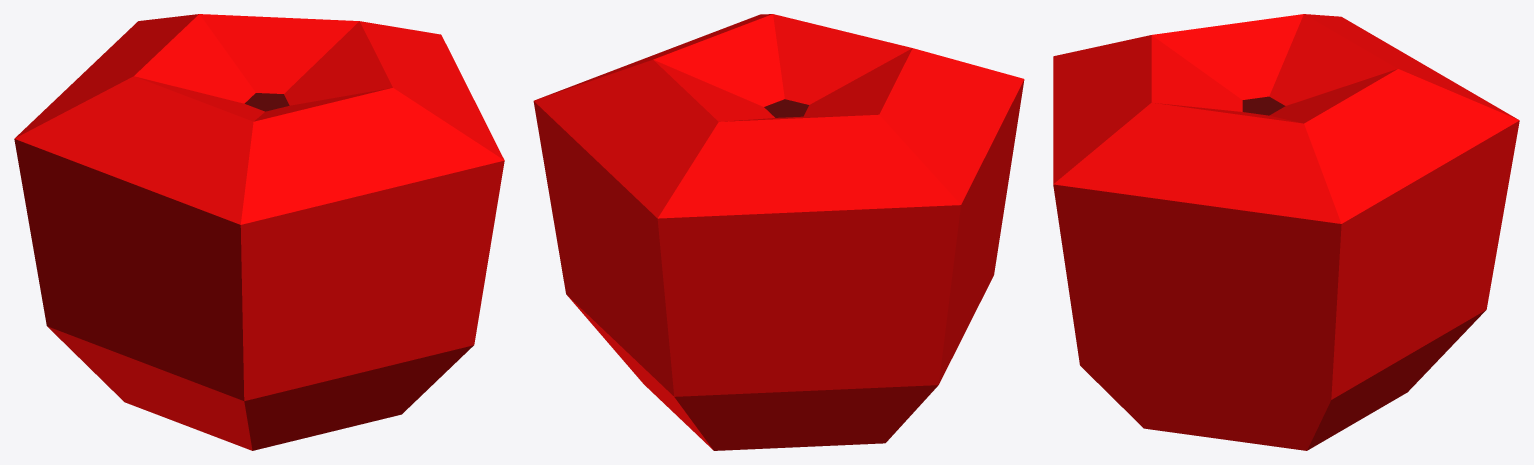
The model's file is cherry02.gltf.
3 views of the same model, side by side, from view 1: azimuth 30°, elevation 25°; view 2: azimuth 150°, elevation 25°; view 3: azimuth 270°, elevation 25° (orthographic).
Visible parts, largest first — view 1: Cylinder; view 2: Cylinder; view 3: Cylinder.
Part boxes in pixels (left/top/right/bottom): Cylinder: left=14, top=14, right=504, bottom=450; Cylinder: left=533, top=14, right=1024, bottom=450; Cylinder: left=1053, top=14, right=1519, bottom=450.
Bounding box in the file's own units: 0.0298 × 0.0217 × 0.0283.
1 material, 1 textured.
